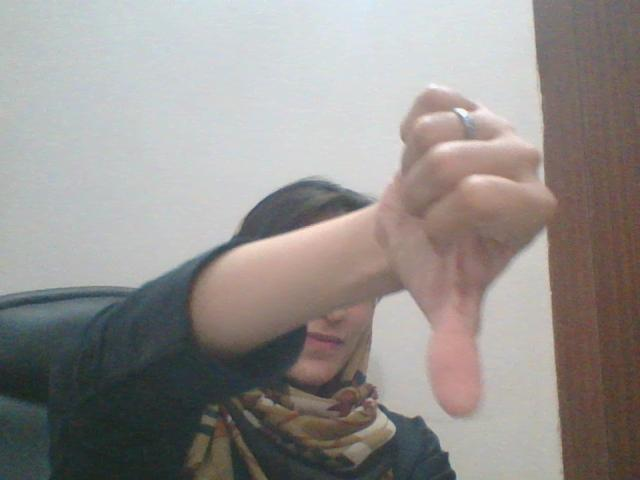thumbs-down: (376, 81, 563, 417)
